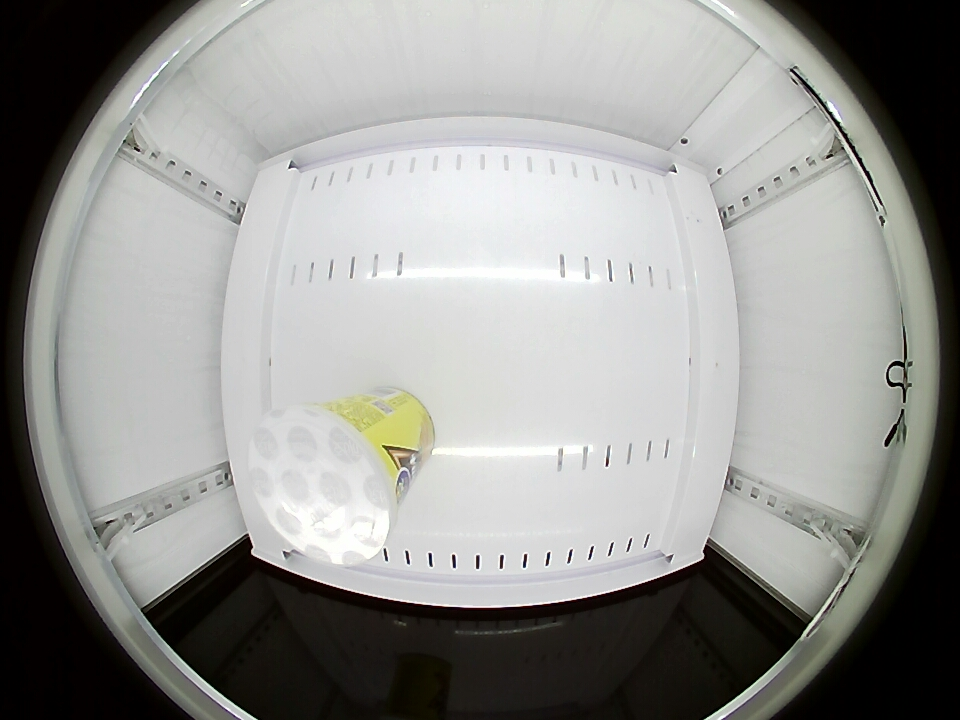kebike: (247, 401, 405, 567)
